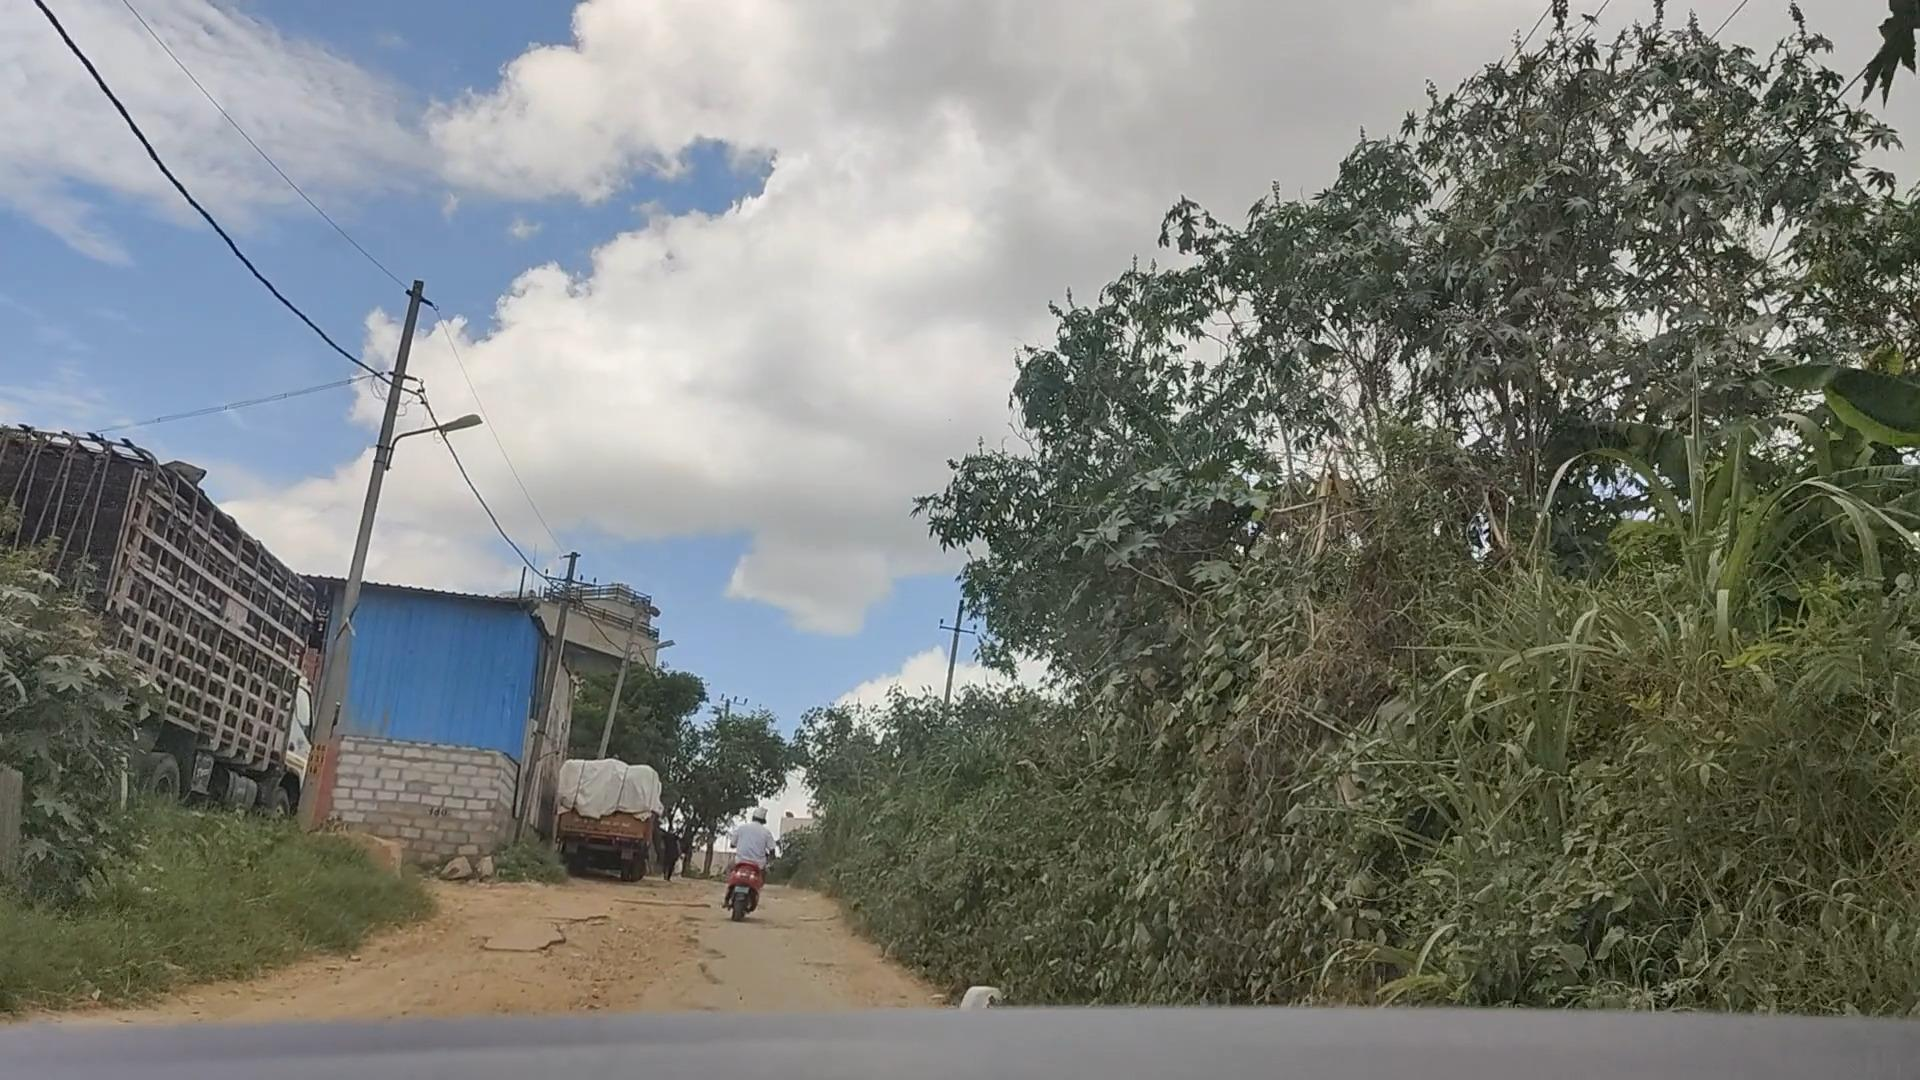HMV: (552, 753, 663, 886)
RoadDamages: (441, 906, 740, 1008)
